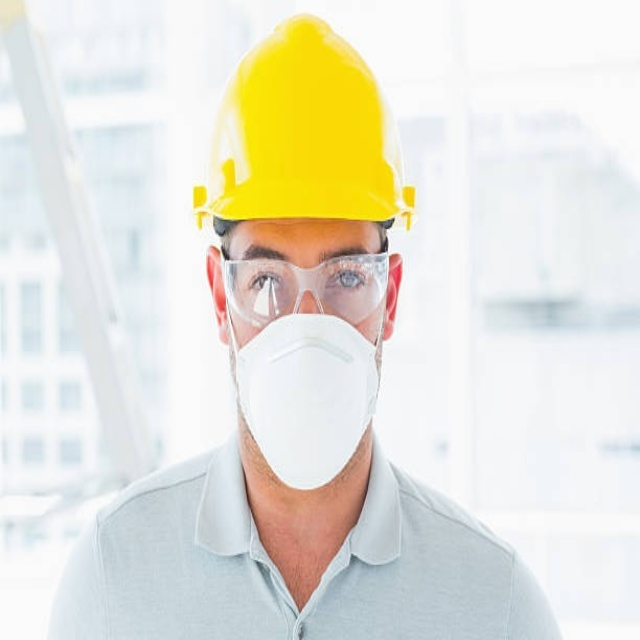Gafas: (219, 246, 390, 325)
Mascara: (226, 307, 379, 488)
